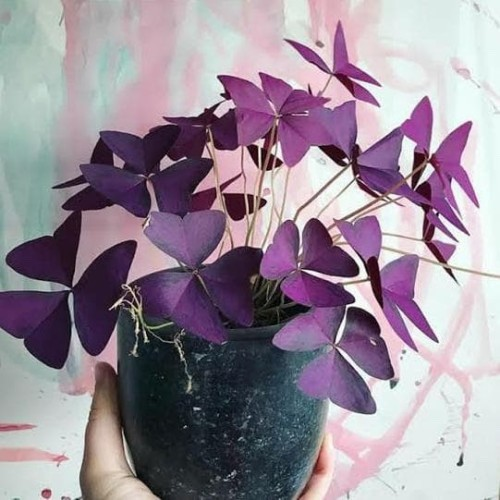butterfly flower: (275, 231, 423, 390), (349, 101, 467, 264), (216, 76, 331, 177), (149, 220, 237, 334), (89, 124, 200, 205), (295, 23, 366, 98)
